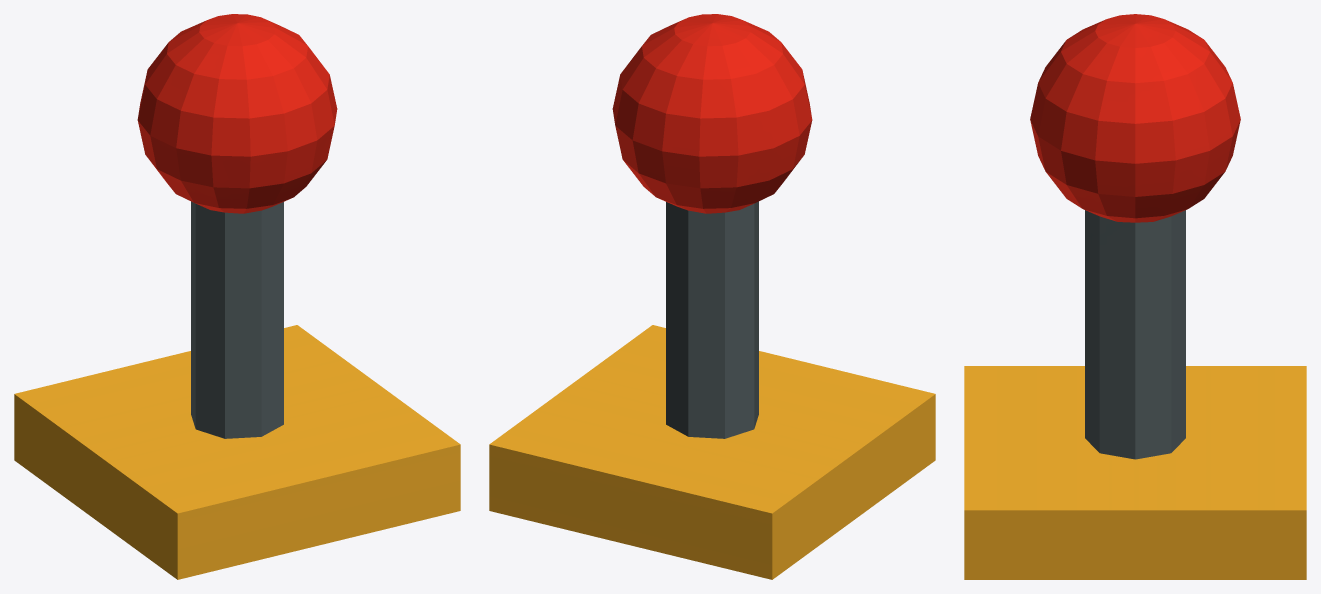
Rendered from Joystick.fbx.
3 views of the same model, side by side, from view 1: azimuth 30°, elevation 25°; view 2: azimuth 150°, elevation 25°; view 3: azimuth 270°, elevation 25° (orthographic). The views are drawn at different scales.
Visible parts, largest first — view 1: Cube.041; view 2: Cube.041; view 3: Cube.041.
Part boxes in pixels (left/top/right/bottom): Cube.041: left=14, top=14, right=460, bottom=579; Cube.041: left=489, top=14, right=935, bottom=579; Cube.041: left=964, top=14, right=1306, bottom=579.
Bounding box in the file's own units: 40.42 × 40.42 × 63.1.
